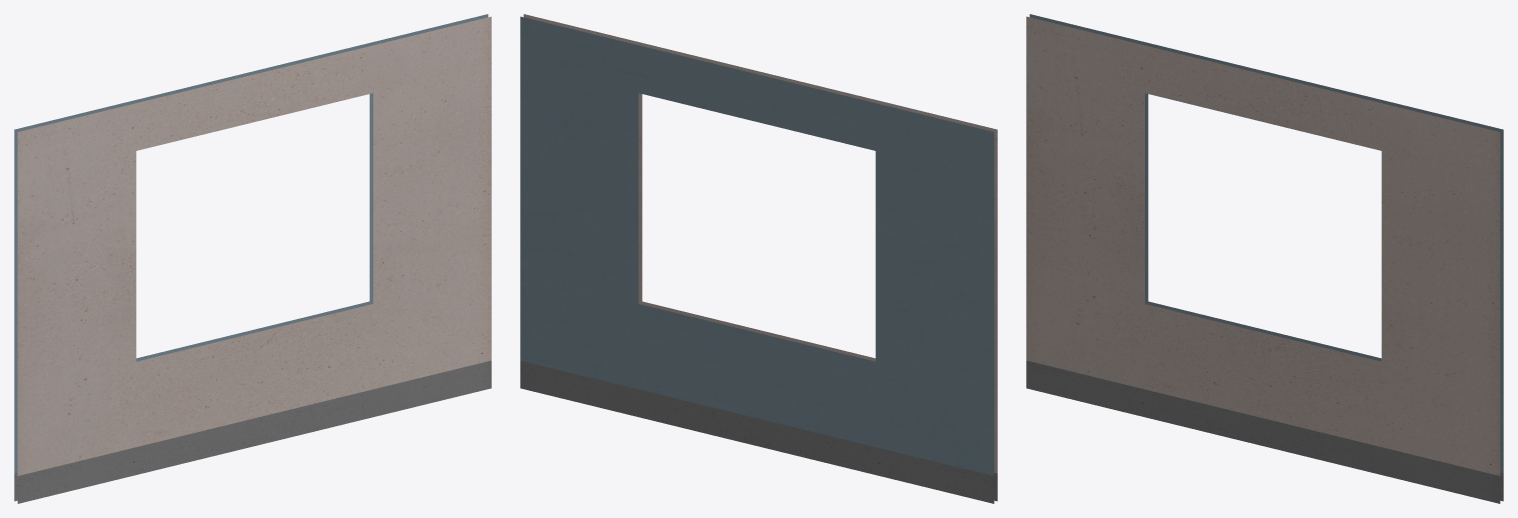
Rendered from wall_1A_1.FBX.
The picture shows the model from 3 angles, left to right: view 1: azimuth 30°, elevation 25°; view 2: azimuth 150°, elevation 25°; view 3: azimuth 330°, elevation 25°; orthographic projection.
Visible parts, largest first — view 1: wall_1A_1; view 2: wall_1A_1; view 3: wall_1A_1.
Part boxes in pixels (x1,y1,x2,y2): wall_1A_1: [14, 14, 491, 503]; wall_1A_1: [520, 14, 997, 503]; wall_1A_1: [1026, 14, 1503, 503].
Size of the model in its own units: 40 by 30 by 0.5.
